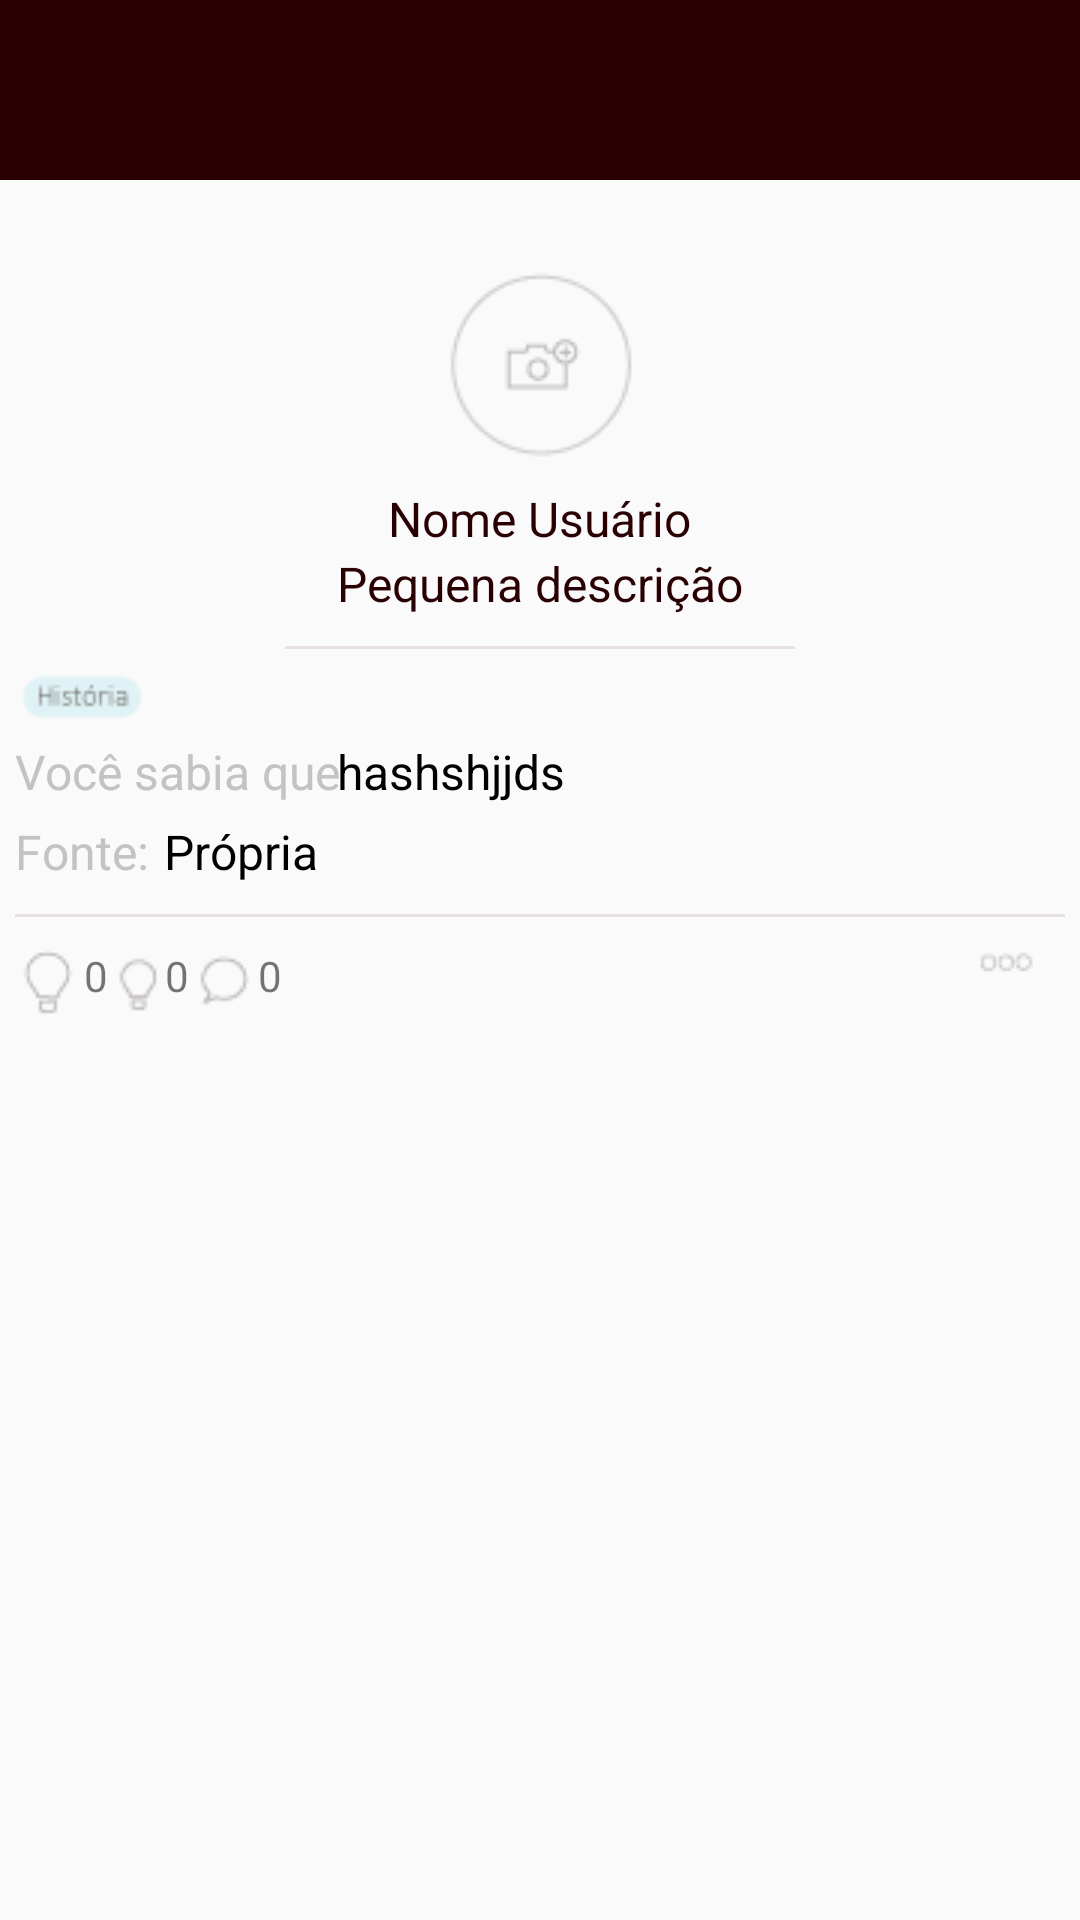

Icons on this 1080px x 1920px Android screen, each with its box as (x1, y1, x2, y2):
comentar: (201, 958, 247, 1004)
fotopequena: (452, 276, 631, 453)
lampada: (26, 953, 70, 1013), (120, 959, 156, 1010)
mais: (981, 953, 1032, 971)
